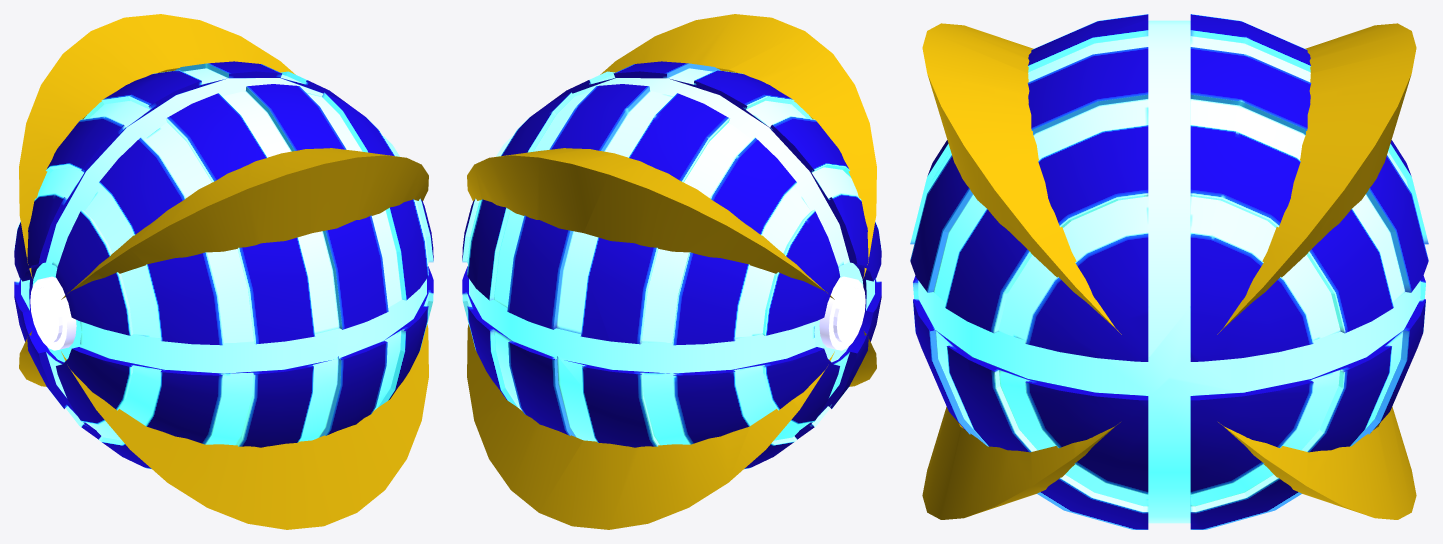
File: ball8.fbx
3 views of the same model, side by side, from view 1: azimuth 30°, elevation 25°; view 2: azimuth 150°, elevation 25°; view 3: azimuth 270°, elevation 25° (orthographic). The views are drawn at different scales.
Parts seen in each view (by area): view 1: pCylinder4; view 2: pCylinder4; view 3: pCylinder4.
Boxes of the visible parts, bbox=[...] form: pCylinder4: bbox=[14, 14, 433, 529]; pCylinder4: bbox=[462, 14, 881, 529]; pCylinder4: bbox=[910, 14, 1428, 529].
Bounding box in the file's own units: 207 × 207 × 209.
1 material, 1 textured.
